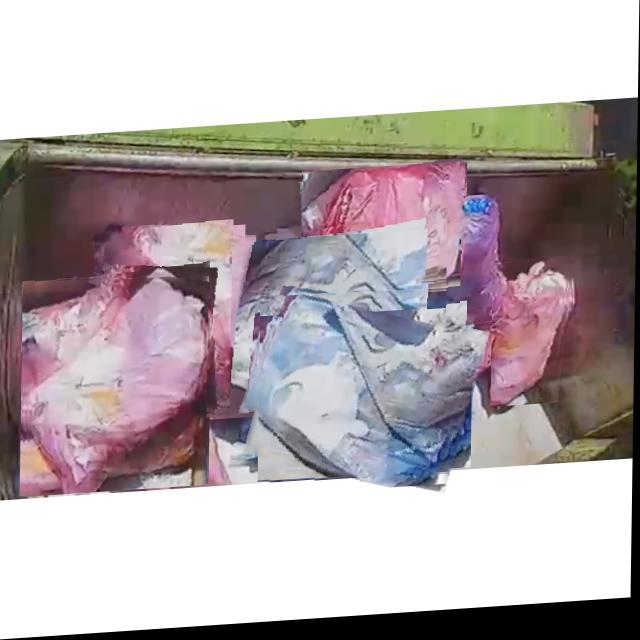other_trashbag: (27, 278, 209, 495), (197, 241, 422, 412), (261, 300, 456, 493), (106, 228, 232, 414), (302, 168, 464, 297), (493, 269, 571, 414), (448, 201, 511, 332)
